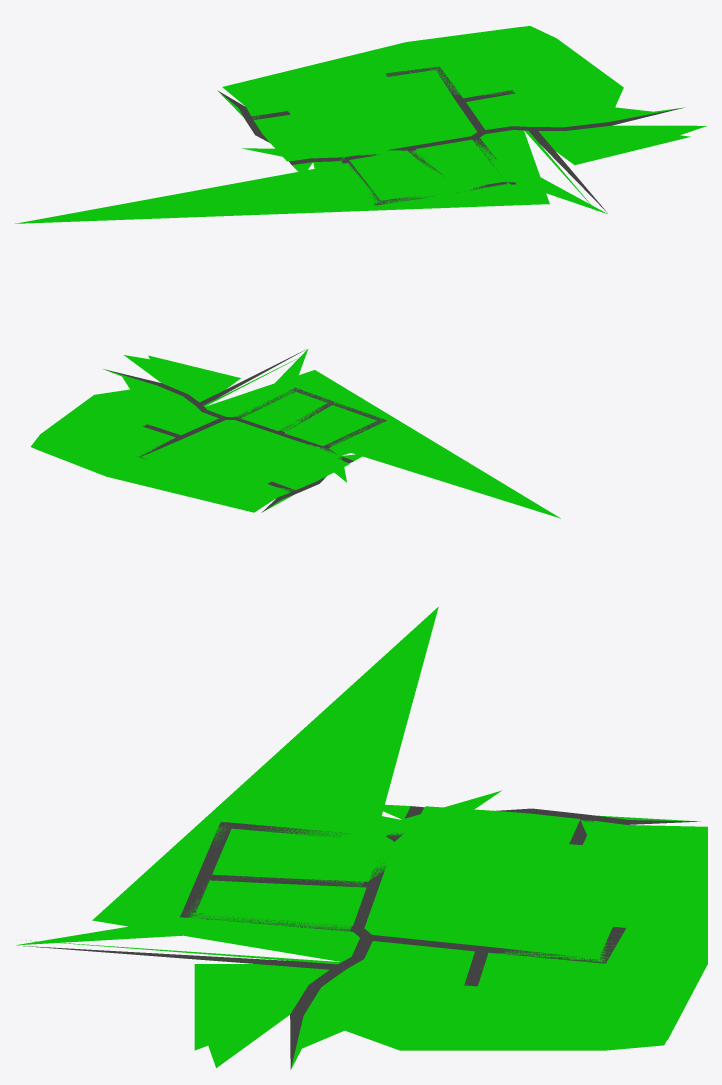
The picture shows the model from 3 angles, top to bottom: view 1: azimuth 30°, elevation 25°; view 2: azimuth 150°, elevation 25°; view 3: azimuth 270°, elevation 25°; orthographic projection. The views are drawn at different scales.
Size of the model in its own units: 362 by 0 by 203.
